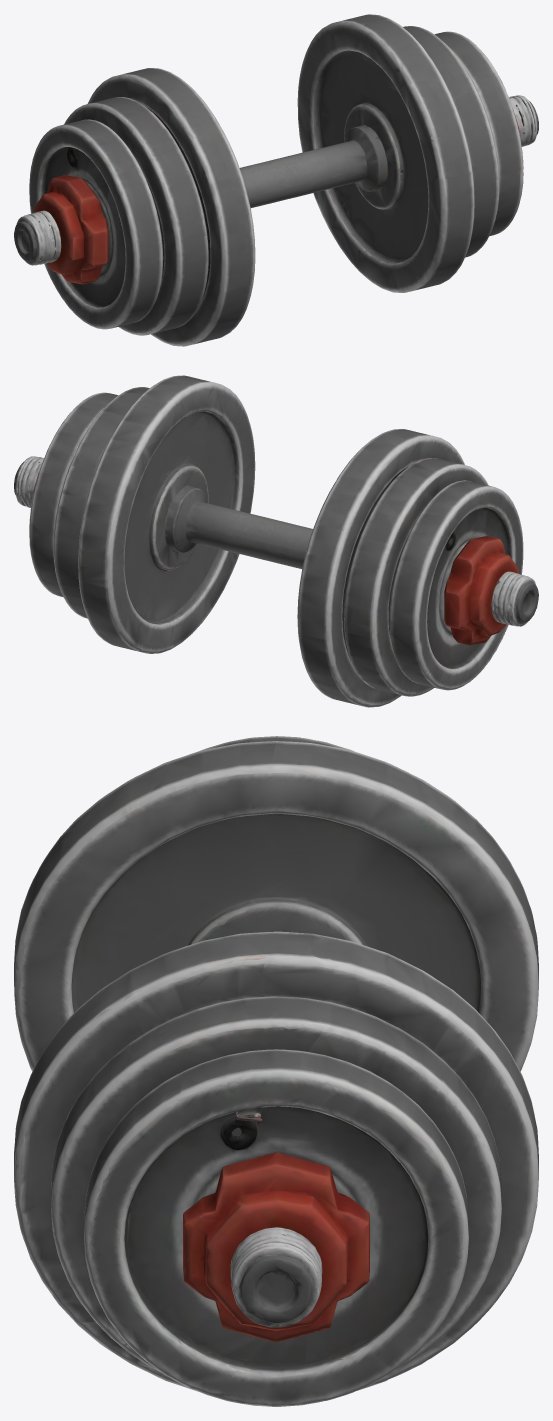
The model's file is dumbbell.glb.
3 renders of one model, top to bottom at view 1: azimuth 30°, elevation 25°; view 2: azimuth 150°, elevation 25°; view 3: azimuth 270°, elevation 25°, orthographic. The views are drawn at different scales.
Visible parts, largest first — view 1: world; view 2: world; view 3: world.
Boxes of the visible parts, <box> form: world: <box>14,14,538,346</box>; world: <box>14,375,538,707</box>; world: <box>14,736,538,1406</box>.
Size of the model in its own units: 1 by 0.4741 by 0.5051.
Materials: 1 (1 with a texture image).
